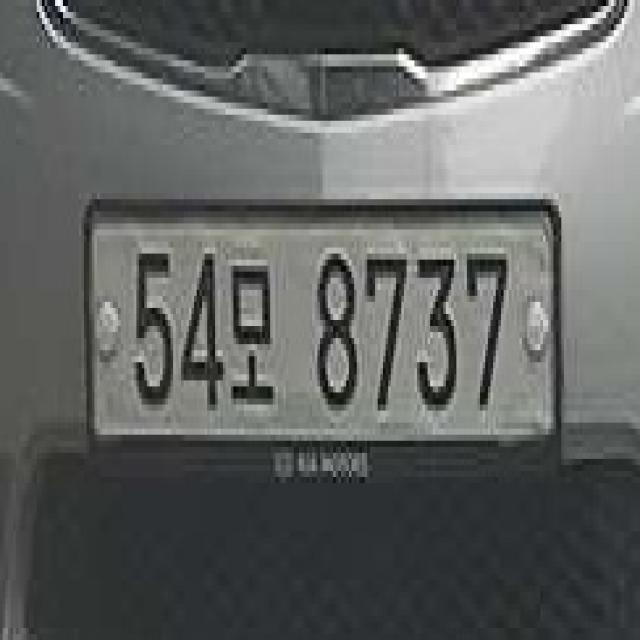3: (414, 217, 464, 429)
4: (181, 211, 228, 429)
5: (128, 211, 184, 417)
7: (459, 224, 517, 410), (365, 223, 417, 429)
8: (312, 236, 365, 434)
license_plate: (68, 175, 564, 501)
mo: (228, 242, 278, 416)
